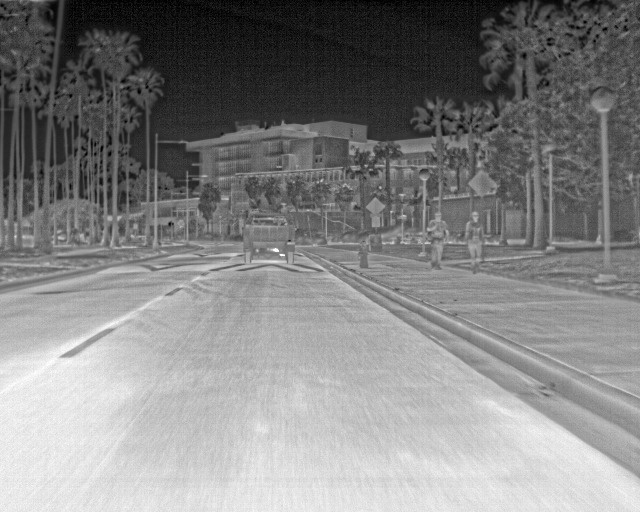vehicle: (242, 215, 295, 265)
